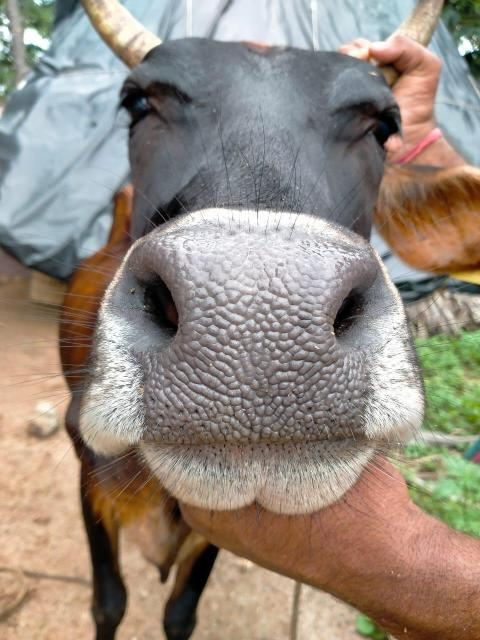Muzzle: (124, 231, 386, 441)
